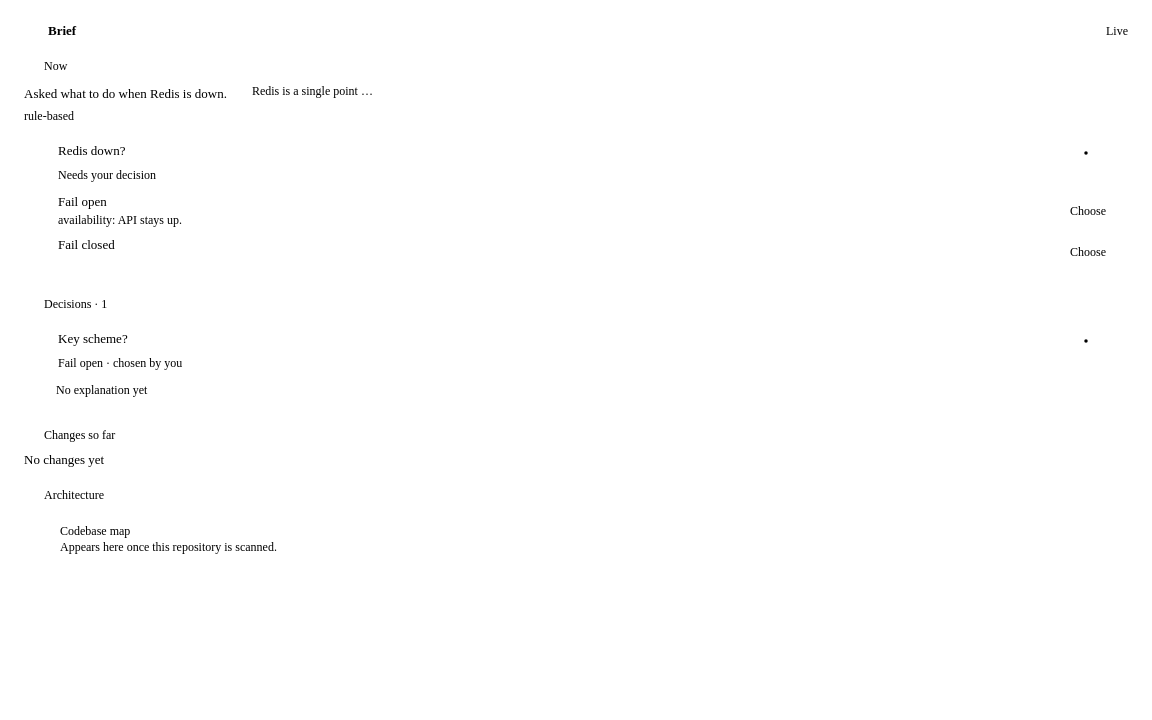
Test: Brief story and decision cards (phase C, lane 07 S-4) › a failed answer is announced and the options come back
The image size is (1152, 720).
Click the button with aria-label "Choose Fail open" at coordinates (1088, 210), box [1060,198,1116,224]
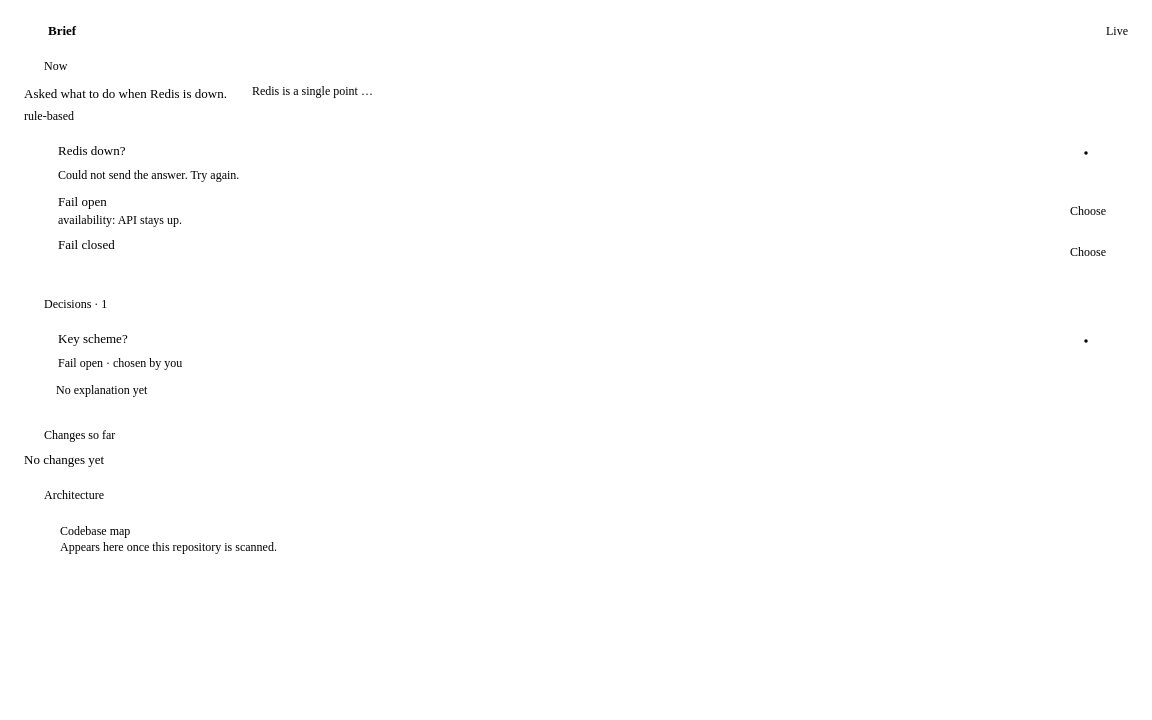
Now the text "Could not send the answer. Try again." is shown, box [58,168,239,182]
